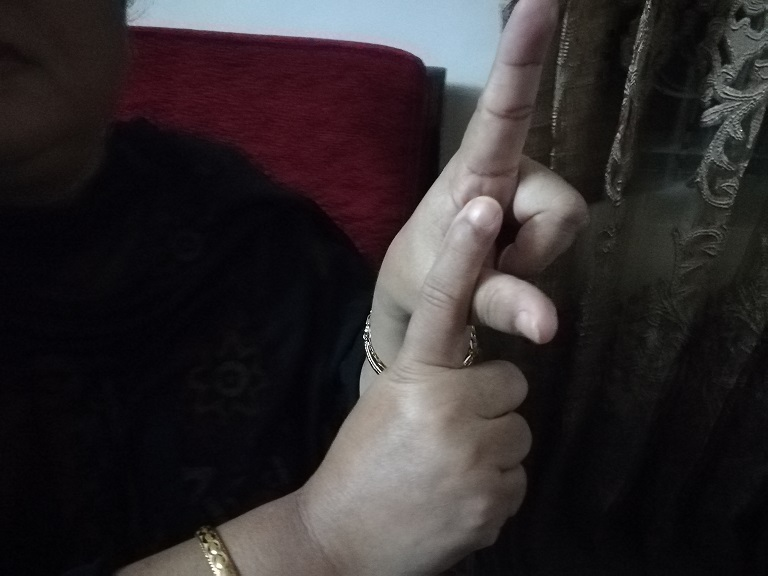dh: (400, 1, 578, 560)
